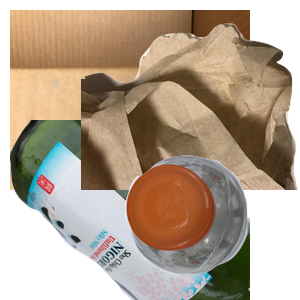cardboard: (10, 10, 250, 190)
glass: (10, 120, 250, 300)
plastic: (123, 152, 300, 300)
trash: (81, 21, 300, 201)
